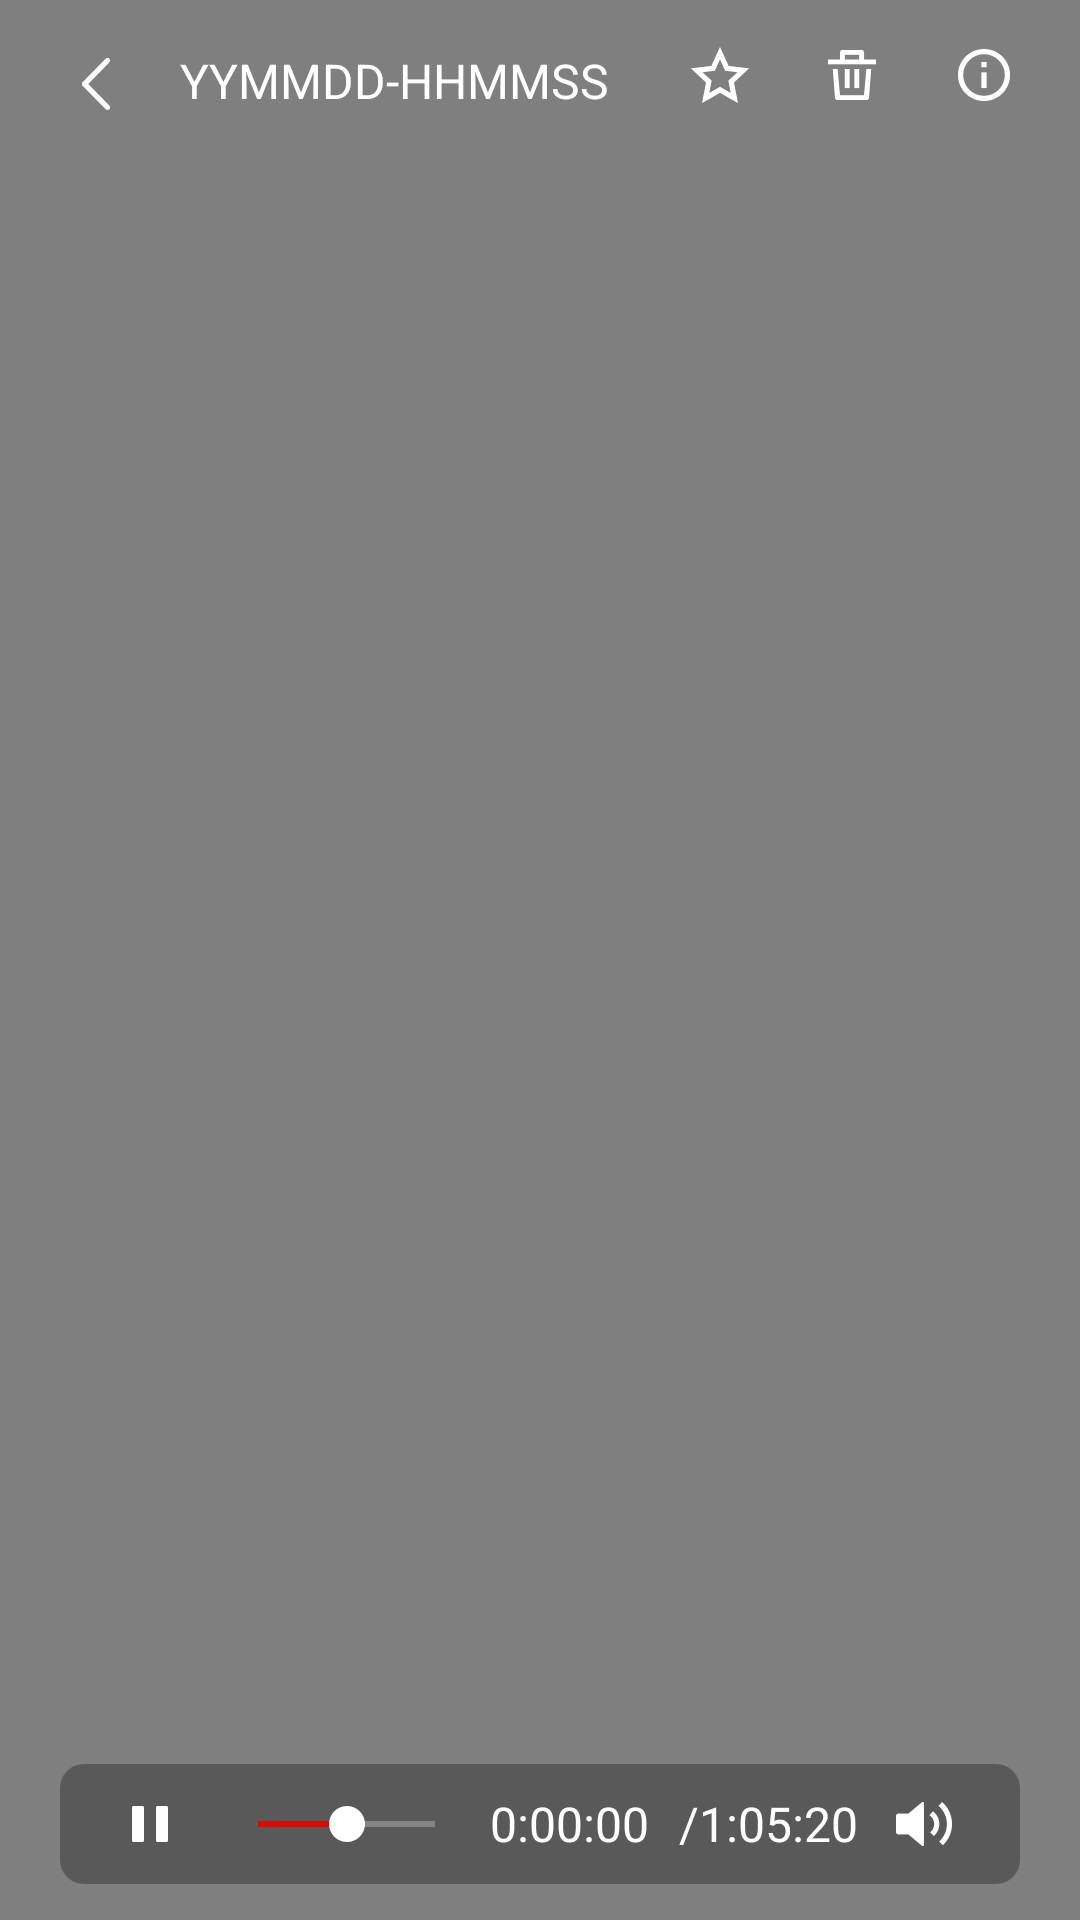

Icons on this 1080*1920 Android screen, each with the point to tap as point (x, y):
video play delete: point (852, 75)
video play info: point (984, 75)
video play mark: point (720, 75)
video play status: point (150, 1824)
video play top back: point (96, 84)
video play vol on: point (924, 1824)
